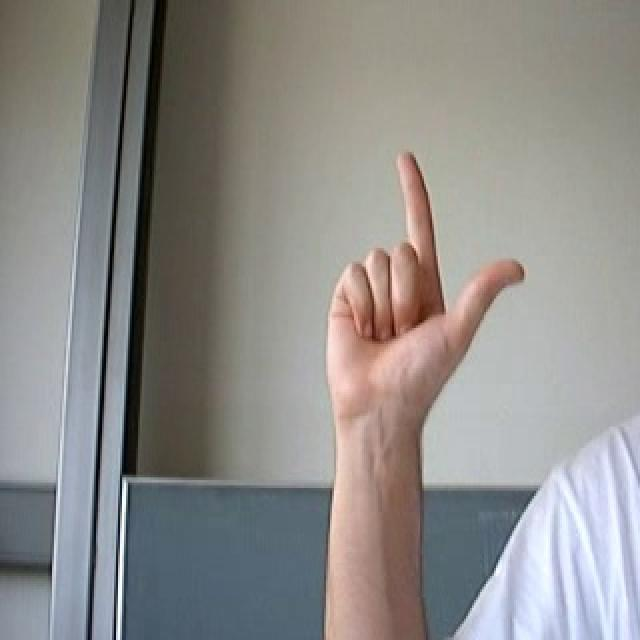L: (313, 135, 535, 438)
